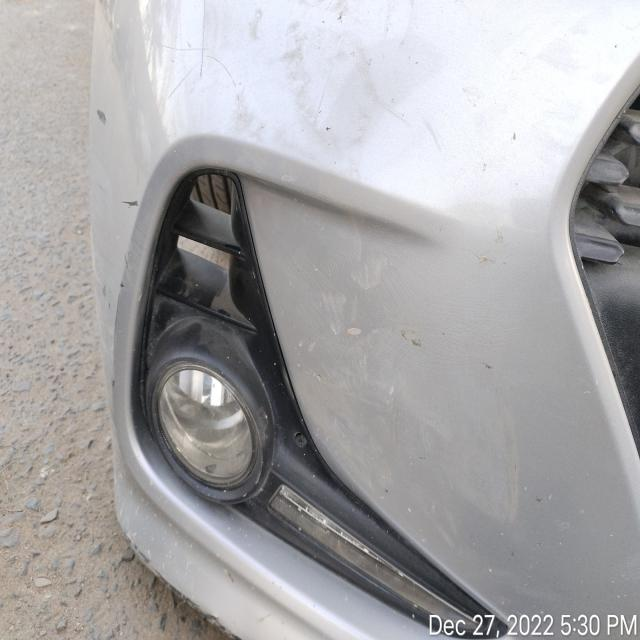damage: (153, 4, 245, 102), (100, 264, 122, 402), (153, 567, 204, 616), (199, 610, 247, 640), (127, 537, 155, 571), (93, 104, 110, 123), (119, 196, 142, 209)
